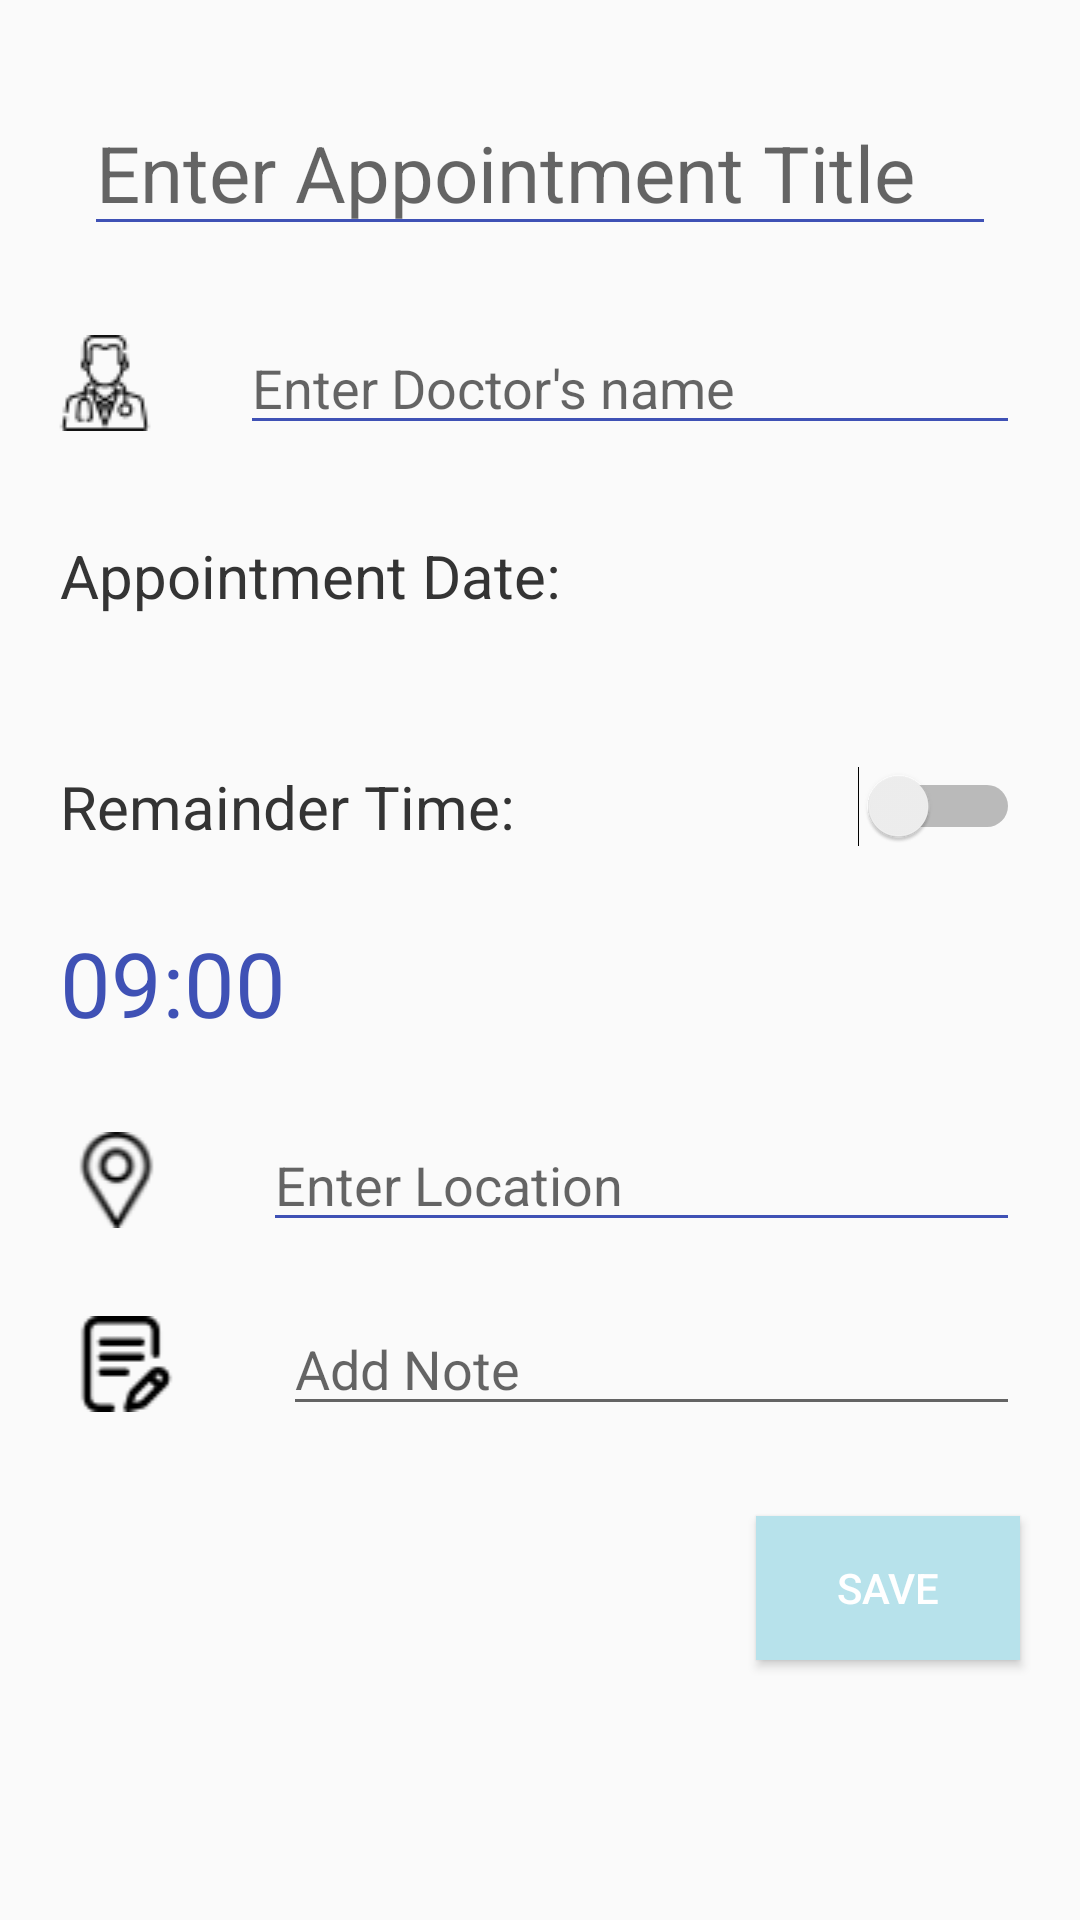

Point at icon controls on the screen. Image size 1080px x 1920px, points as point (x, y).
notes: point (126, 1364)
